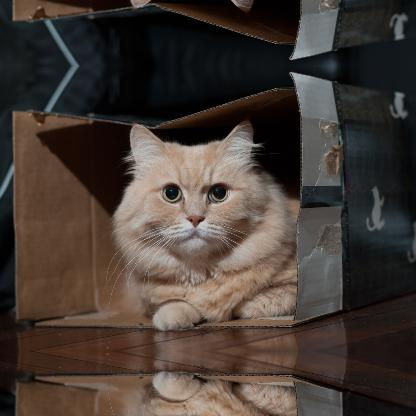Cat: (97, 112, 297, 334), (97, 365, 298, 415)
